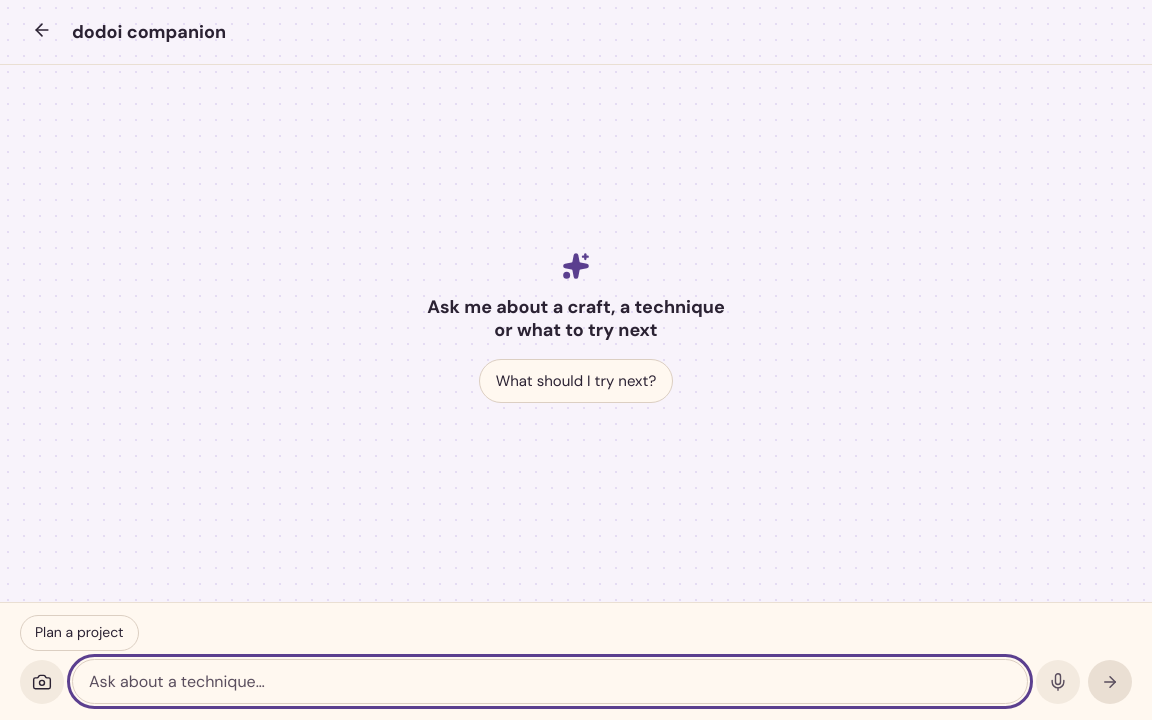
it: ChatPanel › voice typing (P2-10) › types what is said into the question field and sends nothing by itself
The width and height of the screenshot is (1152, 720).
Click the button named "Start voice typing": (1058, 682) x1=1036 y1=660 x2=1080 y2=704
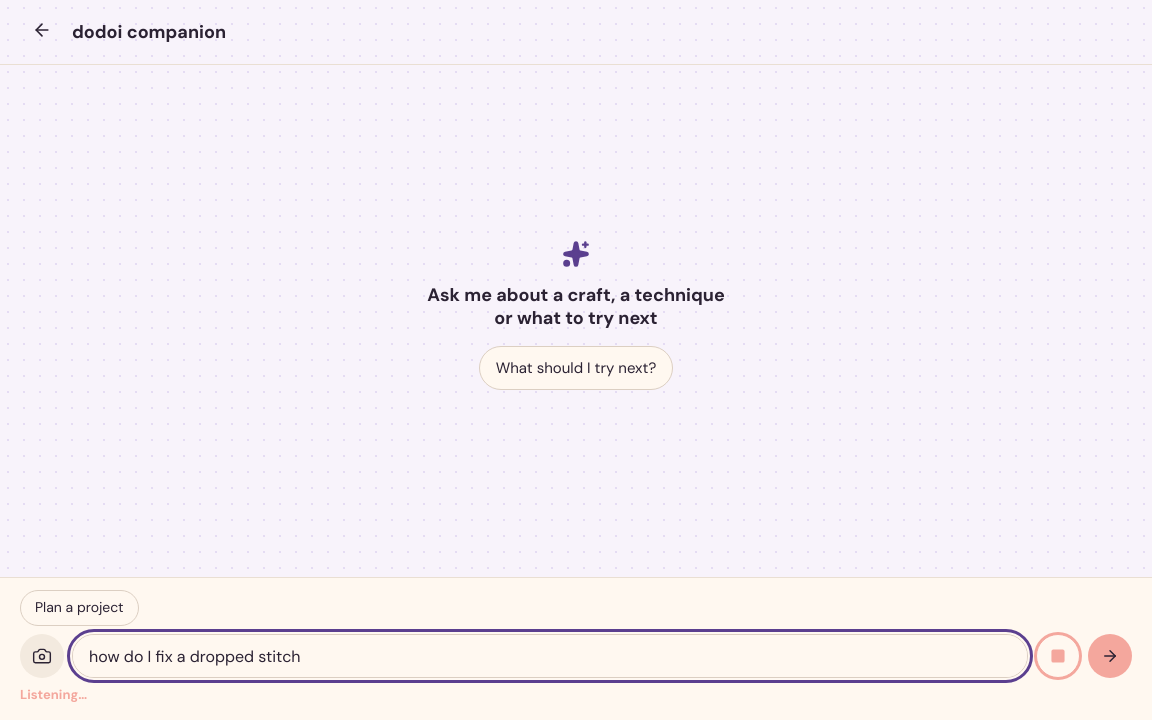
Expected: the text box named "Your question" holds "how do I fix a dropped stitch", x1=72 y1=634 x2=1028 y2=678
